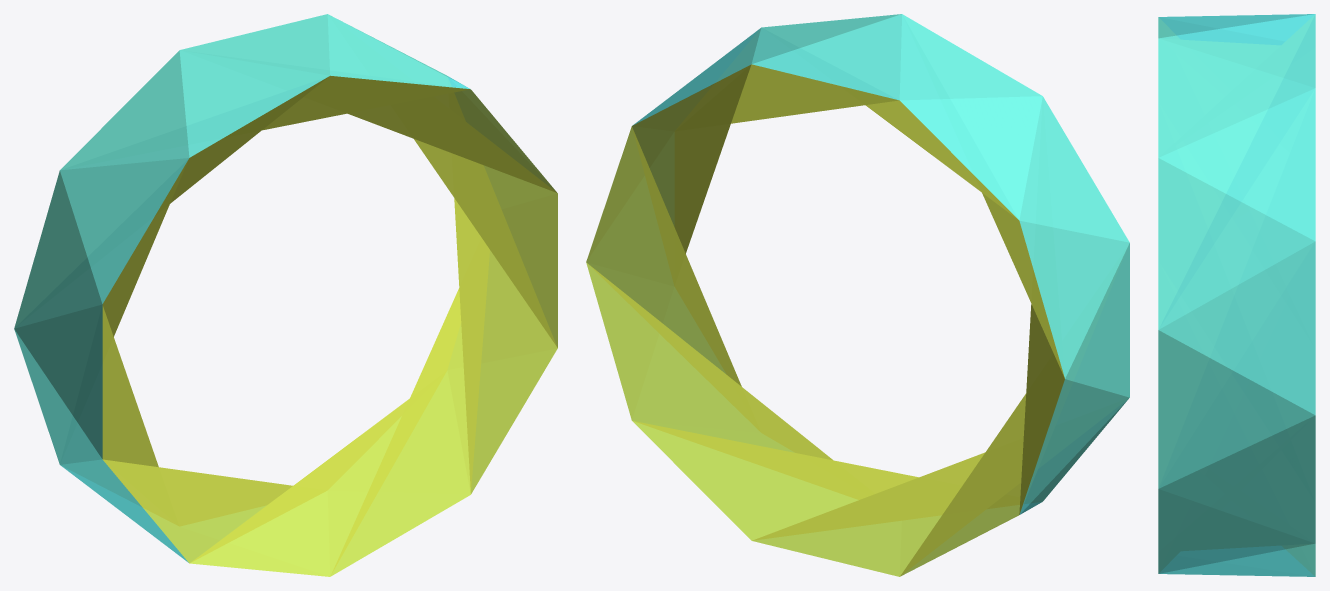
The model's file is AntiDecagonalIrisToroid.obj.
3 views of the same model, side by side, from view 1: azimuth 30°, elevation 25°; view 2: azimuth 150°, elevation 25°; view 3: azimuth 270°, elevation 25° (orthographic). The views are drawn at different scales.
Bounding box in the file's own units: 2.6 × 2.6 × 0.72.
